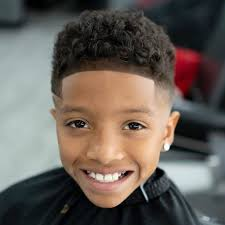person: (49, 8, 181, 211)
